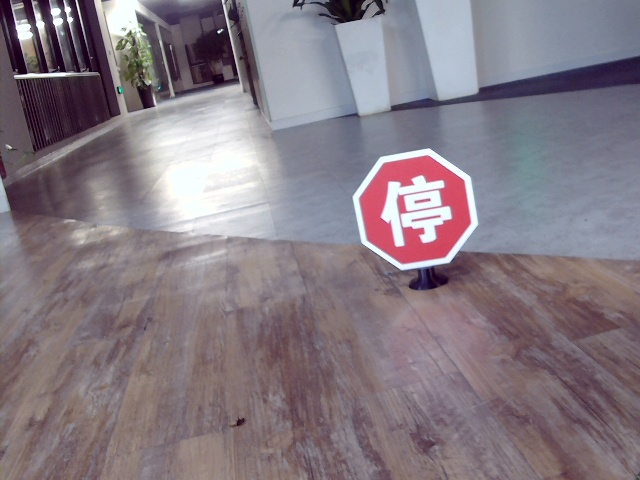stop: (374, 178, 453, 243)
